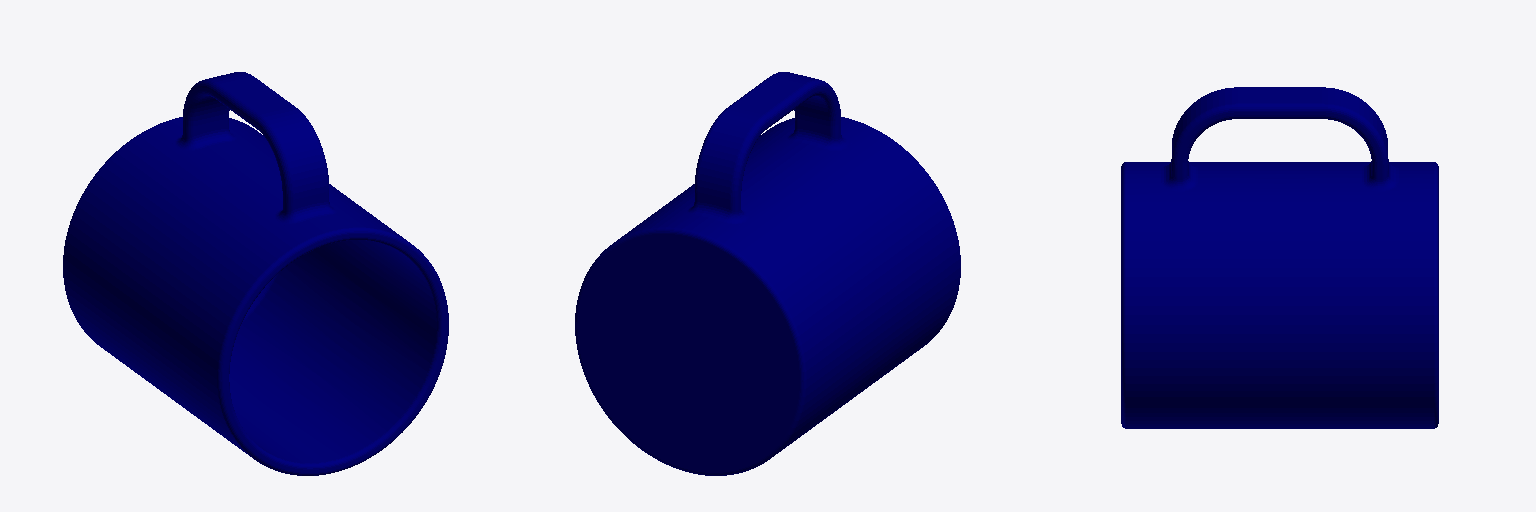
3 renders of one model, left to right at view 1: azimuth 30°, elevation 25°; view 2: azimuth 150°, elevation 25°; view 3: azimuth 270°, elevation 25°, orthographic.
Visible parts, largest first — view 1: canonical; view 2: canonical; view 3: canonical.
Part boxes in pixels (left/top/right/bottom): canonical: left=63, top=72, right=448, bottom=475; canonical: left=575, top=72, right=960, bottom=475; canonical: left=1121, top=87, right=1438, bottom=428.
Bounding box in the file's own units: 0.08 × 0.106 × 0.095.